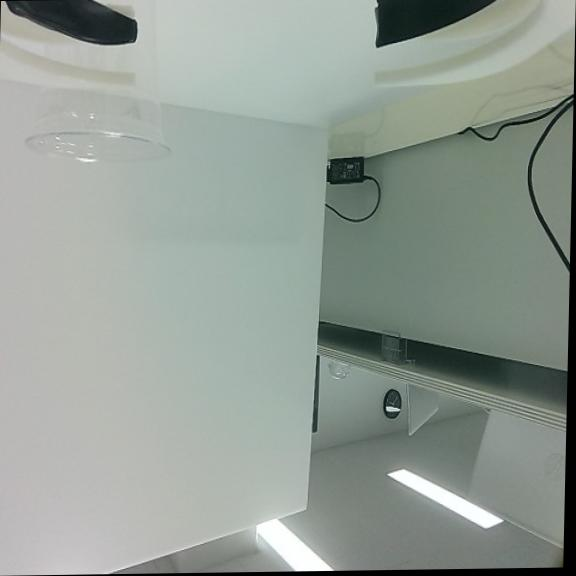Plastik: (23, 0, 171, 164)
